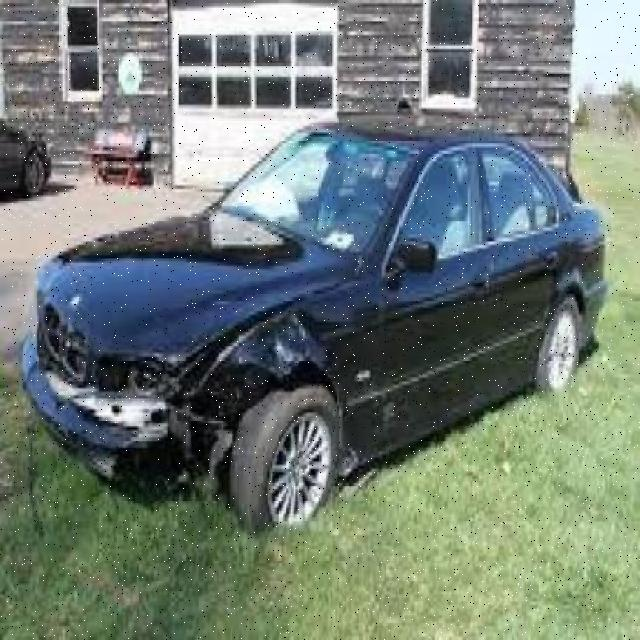damage: (17, 274, 341, 501)
